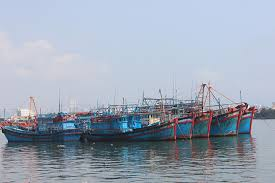tau_dansu: (3, 106, 86, 142), (84, 114, 180, 143), (211, 91, 246, 144), (193, 97, 215, 145), (170, 101, 194, 141)
